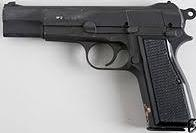gun: (1, 1, 196, 133)
